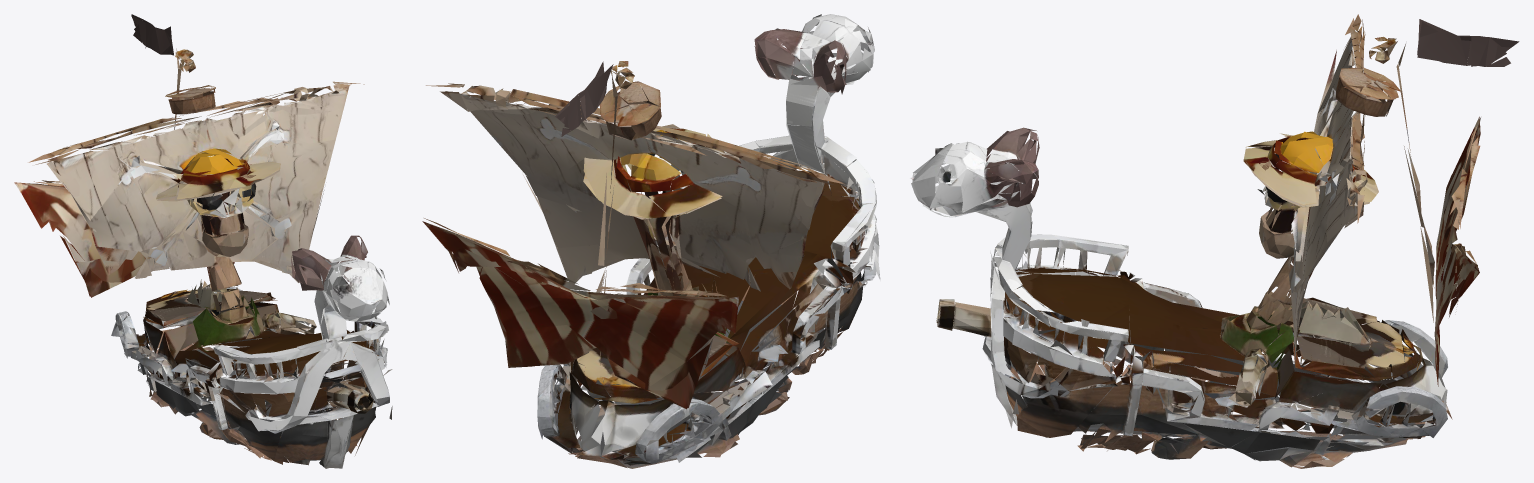
Rendered from going-merry-low.glb.
3 renders of one model, left to right at view 1: azimuth 30°, elevation 25°; view 2: azimuth 150°, elevation 25°; view 3: azimuth 270°, elevation 25°, orthographic. The views are drawn at different scales.
Parts seen in each view (by area): view 1: model; view 2: model; view 3: model.
Part boxes in pixels (left/top/right/bottom): model: left=14, top=14, right=392, bottom=468; model: left=422, top=14, right=880, bottom=468; model: left=909, top=14, right=1519, bottom=468.
Bounding box in the file's own units: 8.7 × 8.28 × 10.91.
1 material, 1 textured.
